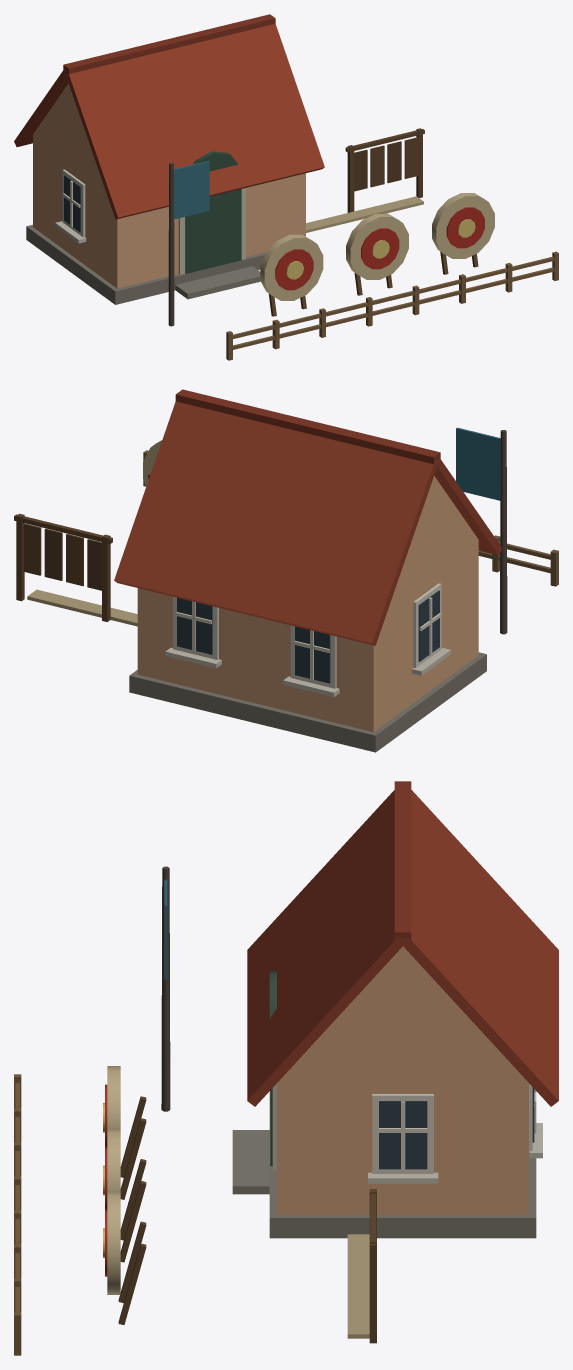
Rendered from procedural_archery@4.glb.
3 renders of one model, top to bottom at view 1: azimuth 30°, elevation 25°; view 2: azimuth 150°, elevation 25°; view 3: azimuth 270°, elevation 25°, orthographic. The views are drawn at different scales.
Visible parts, largest first — view 1: part_0; view 2: part_0; view 3: part_0.
Boxes of the visible parts, x1=… form: part_0: x1=14, y1=14, x2=558, y2=360; part_0: x1=14, y1=389, x2=558, y2=752; part_0: x1=14, y1=781, x2=558, y2=1355.
Size of the model in its own units: 8.46 by 4.65 by 7.35.
